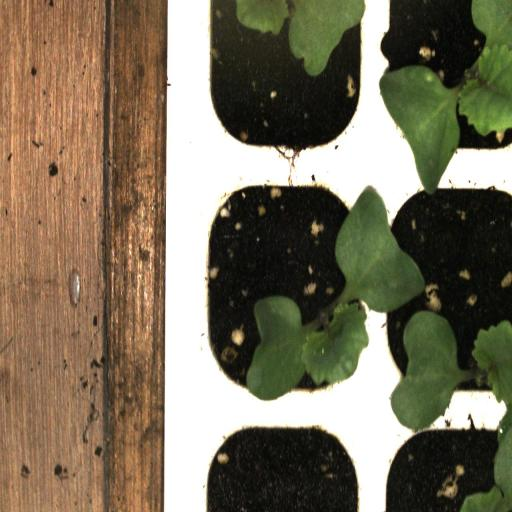Folha: (391, 310, 512, 512), (233, 0, 366, 78)
Germinacao: (193, 174, 380, 414), (373, 0, 512, 167)
